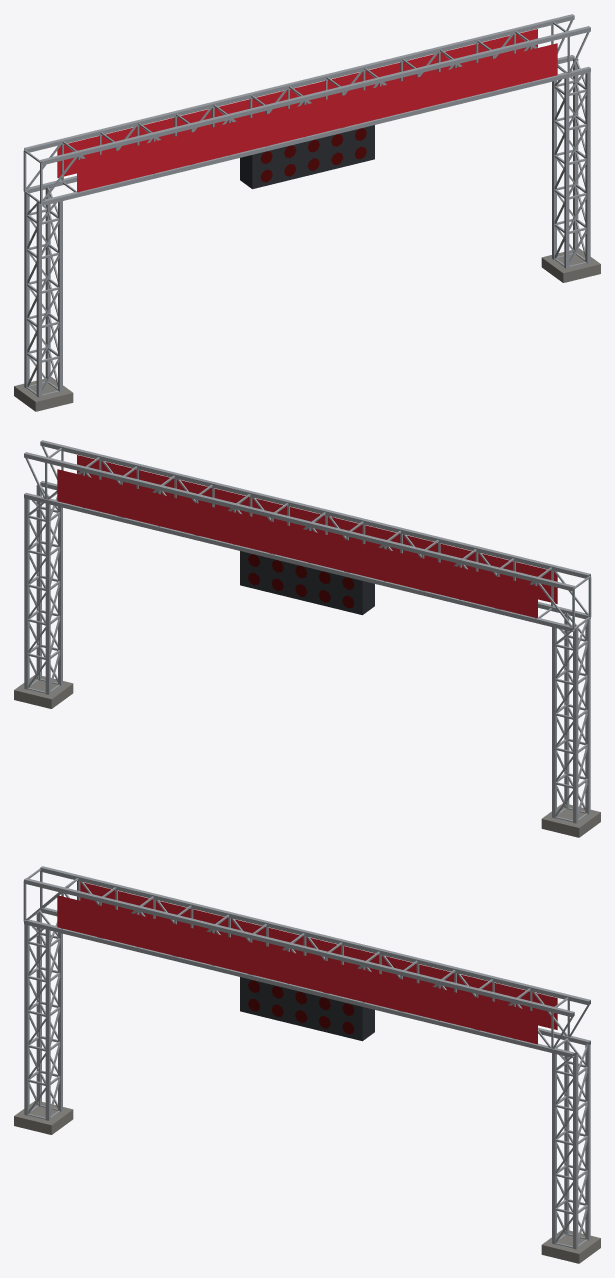
Rendered from gantry.glb.
3 renders of one model, top to bottom at view 1: azimuth 30°, elevation 25°; view 2: azimuth 150°, elevation 25°; view 3: azimuth 330°, elevation 25°, orthographic.
Visible parts, largest first — view 1: gantry; view 2: gantry; view 3: gantry.
Part boxes in pixels (<box>): gantry: <box>14,14,600,411</box>; gantry: <box>14,440,600,837</box>; gantry: <box>14,866,600,1263</box>.
Bounding box in the file's own units: 24 × 10.03 × 1.6.
